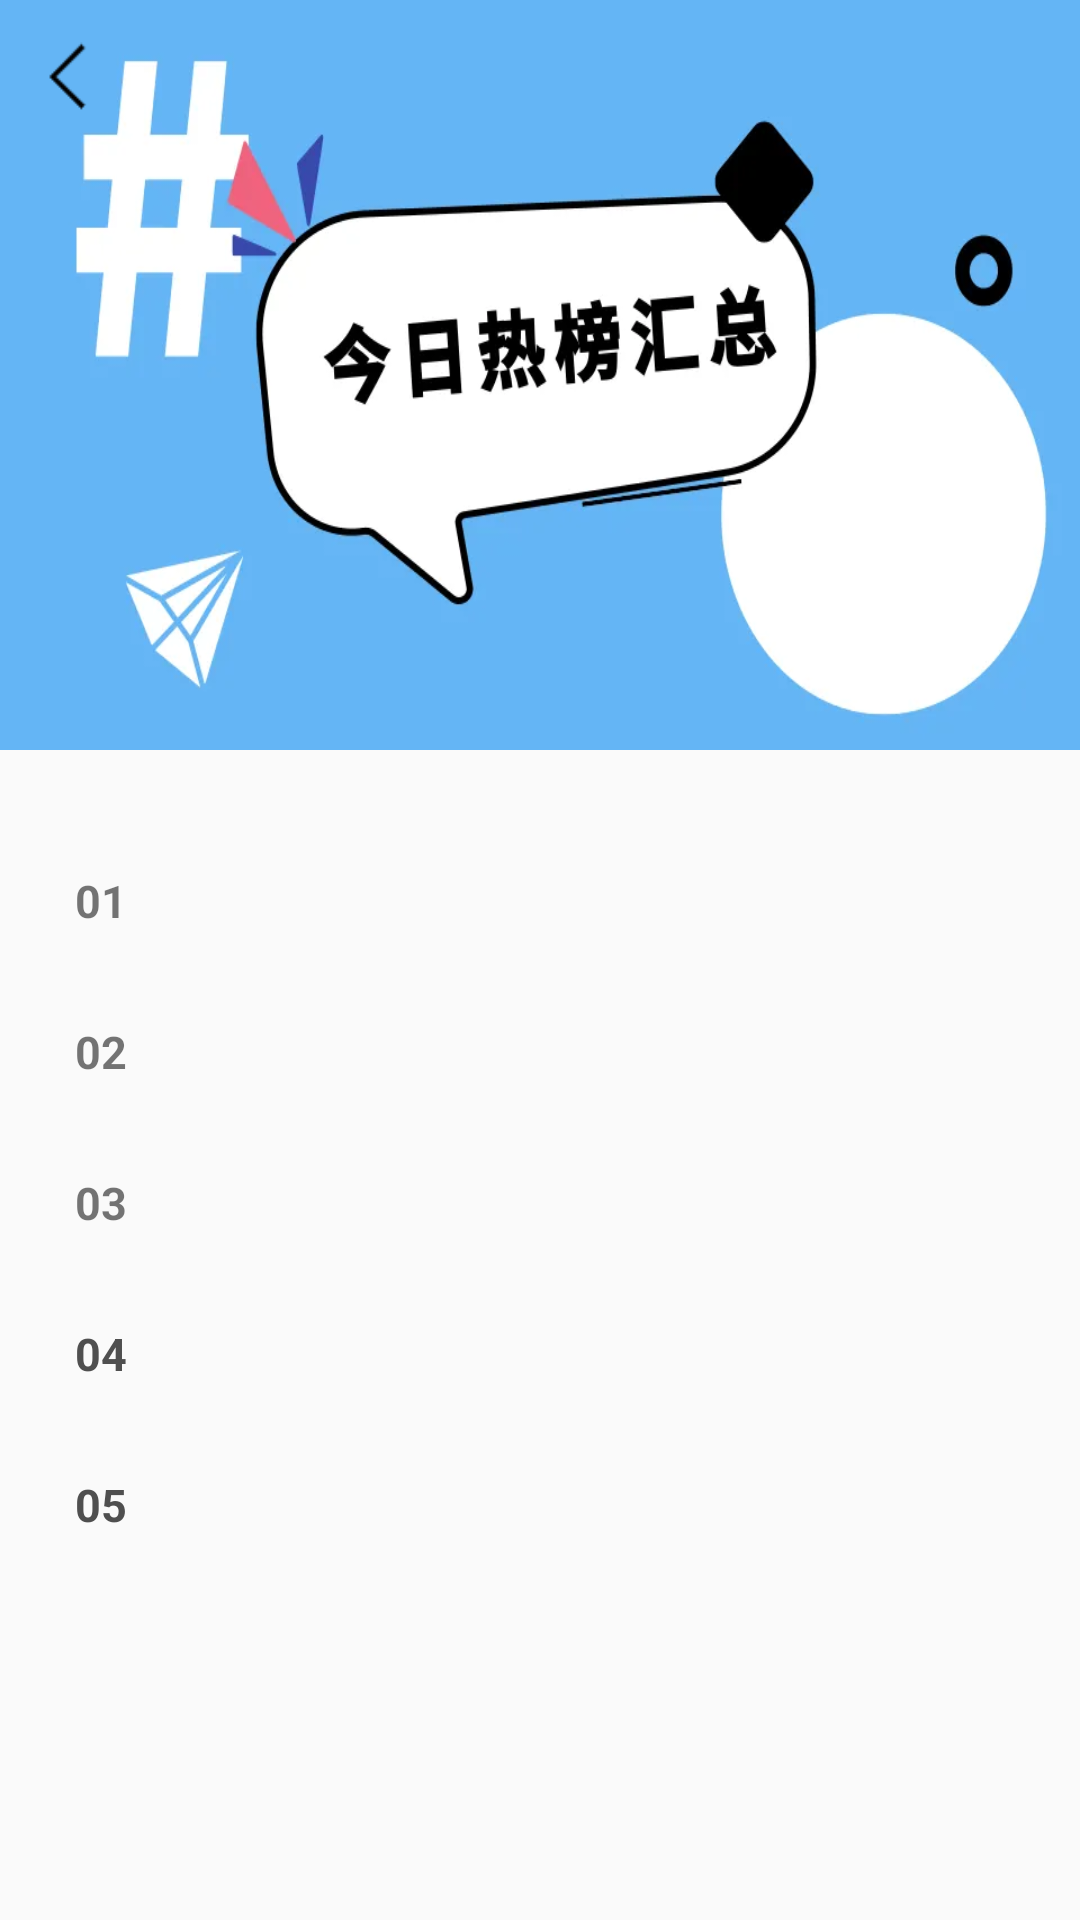

Where icons sit on this 1080px x 1920px app screen, as (x1,y1,x2,y2):
backblack: (49,43,86,110)
